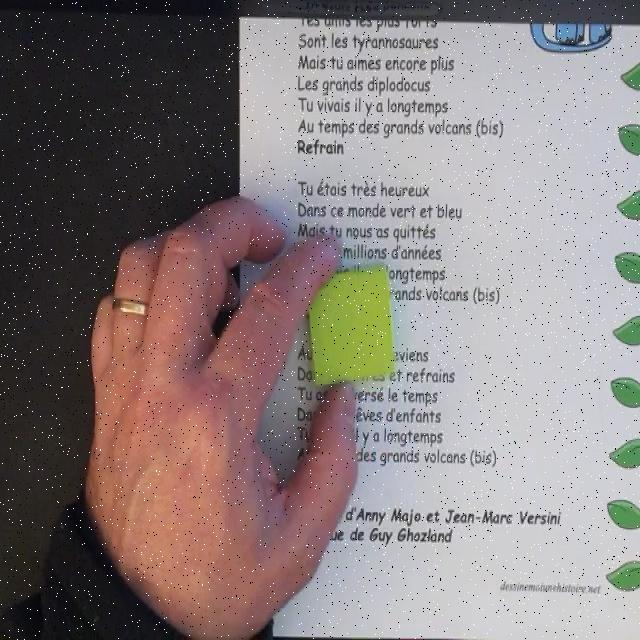square: (302, 263, 398, 387)
